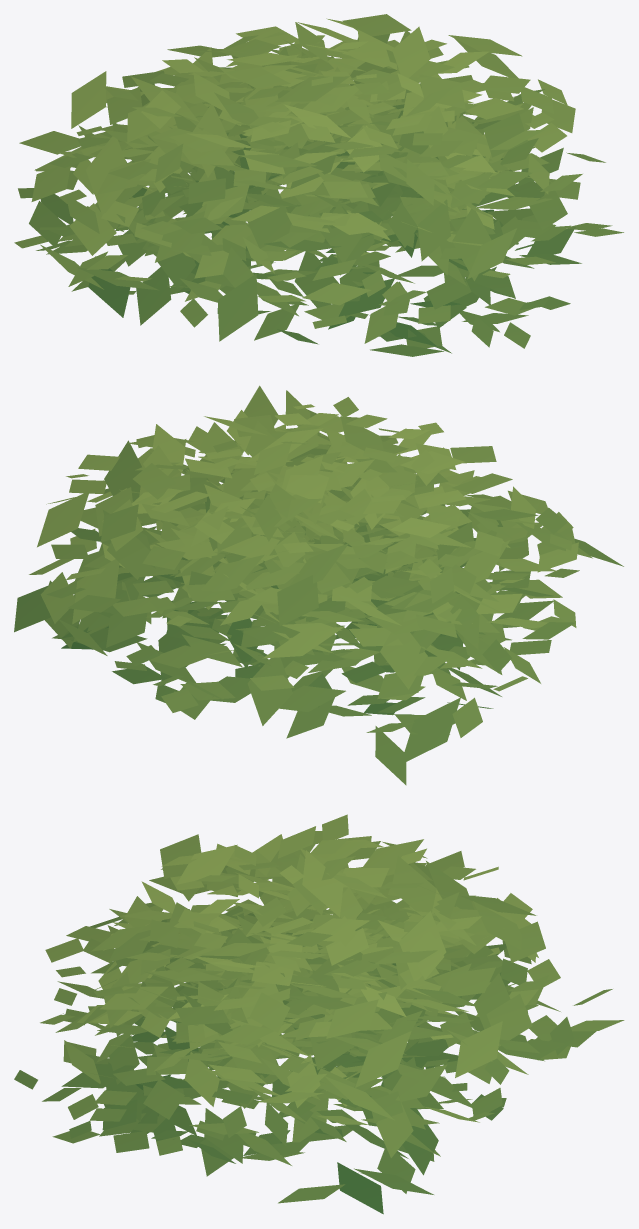
Rendered from leafy_shrub.glb.
3 renders of one model, top to bottom at view 1: azimuth 30°, elevation 25°; view 2: azimuth 150°, elevation 25°; view 3: azimuth 270°, elevation 25°, orthographic.
Parts seen in each view (by area): view 1: Canopy; view 2: Canopy; view 3: Canopy.
Boxes of the visible parts, x1,y1,x2,y2 form: Canopy: (14,14,623,356); Canopy: (14,385,623,785); Canopy: (14,814,624,1214).
Size of the model in its own units: 3.04 by 1.47 by 3.01.
